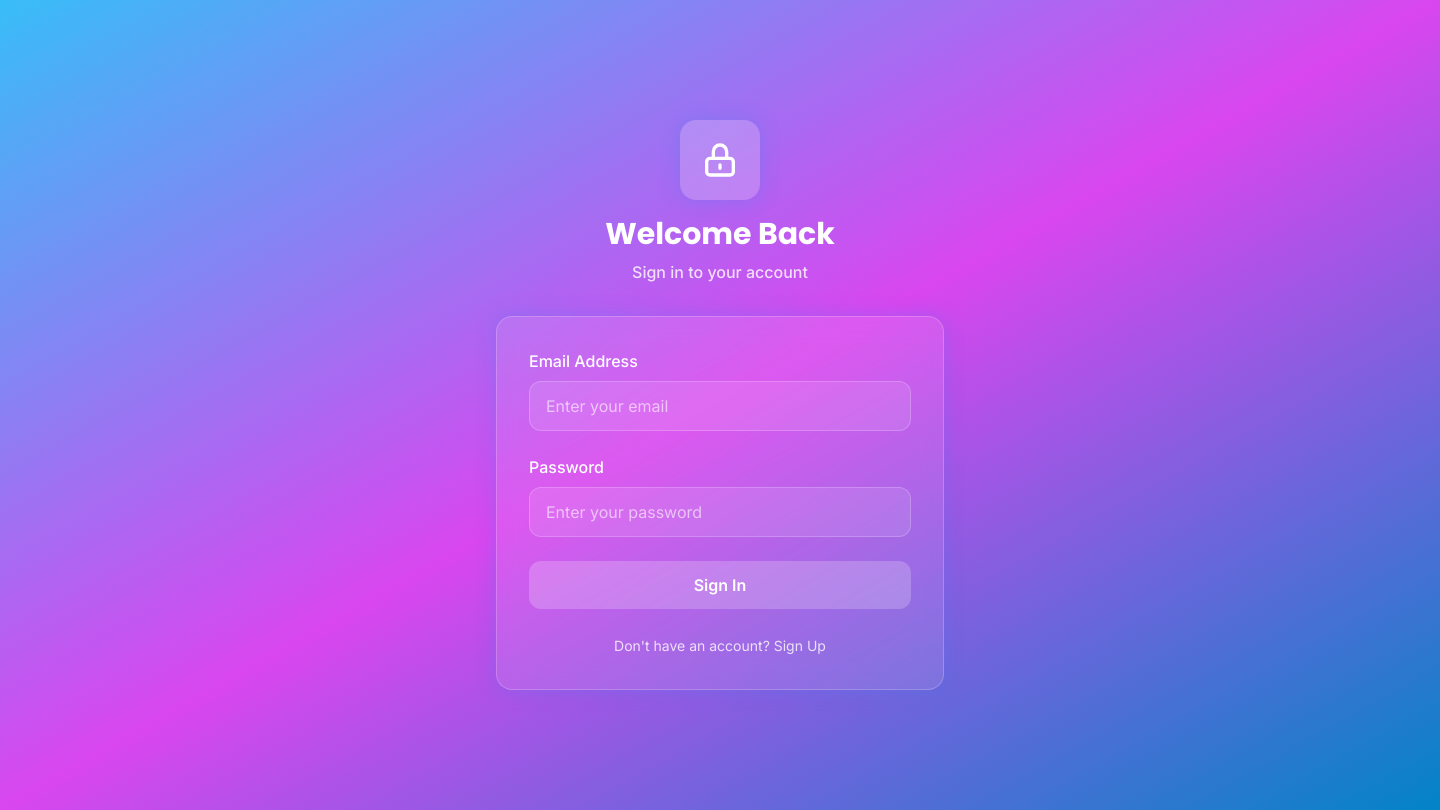
Test case: LoginPage › handles login error
Type "test@example.com" into the field labelled "Email Address" at (720, 406), box [529, 381, 911, 431]
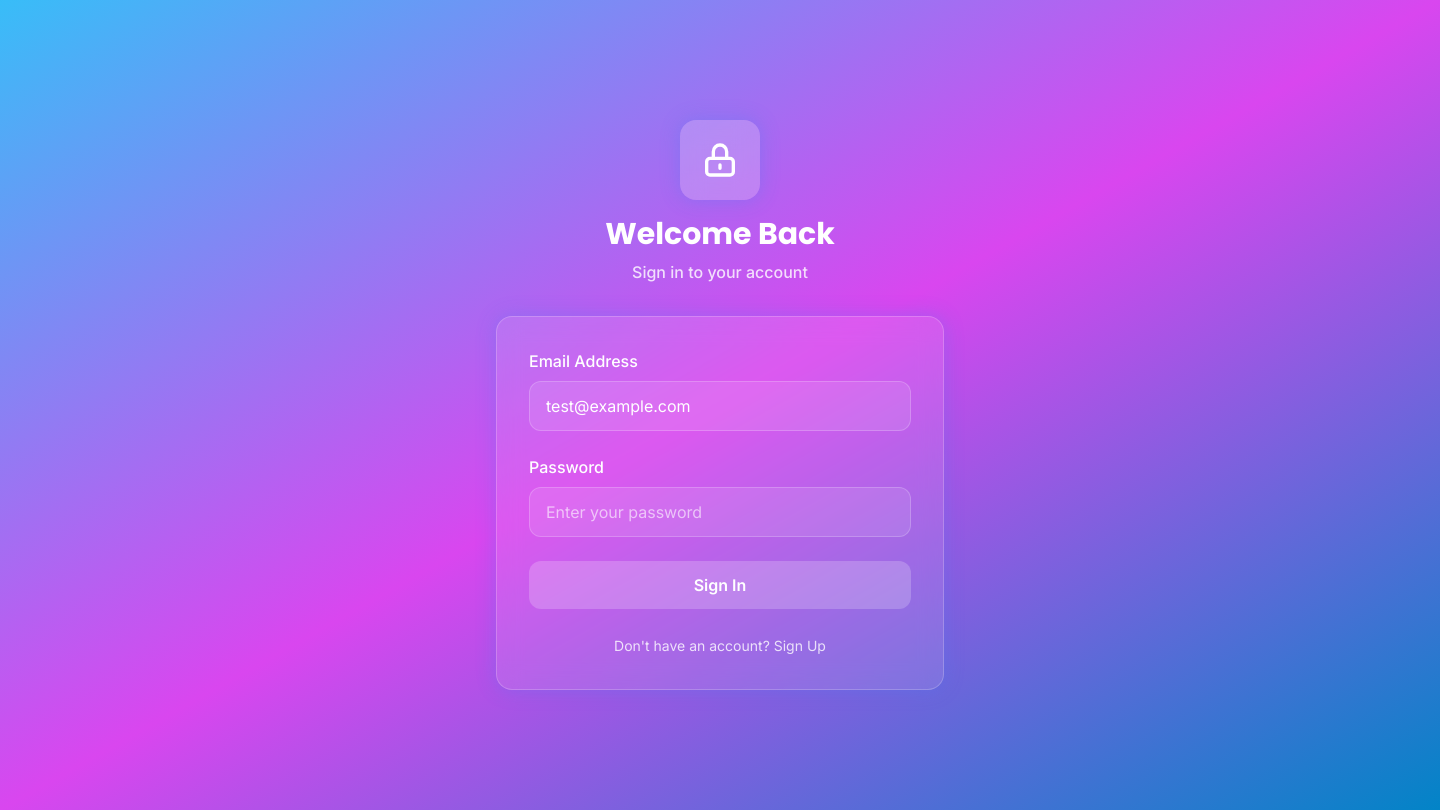
Type "wrongpassword" into the password field labelled "Password" at (720, 512), box [529, 487, 911, 537]
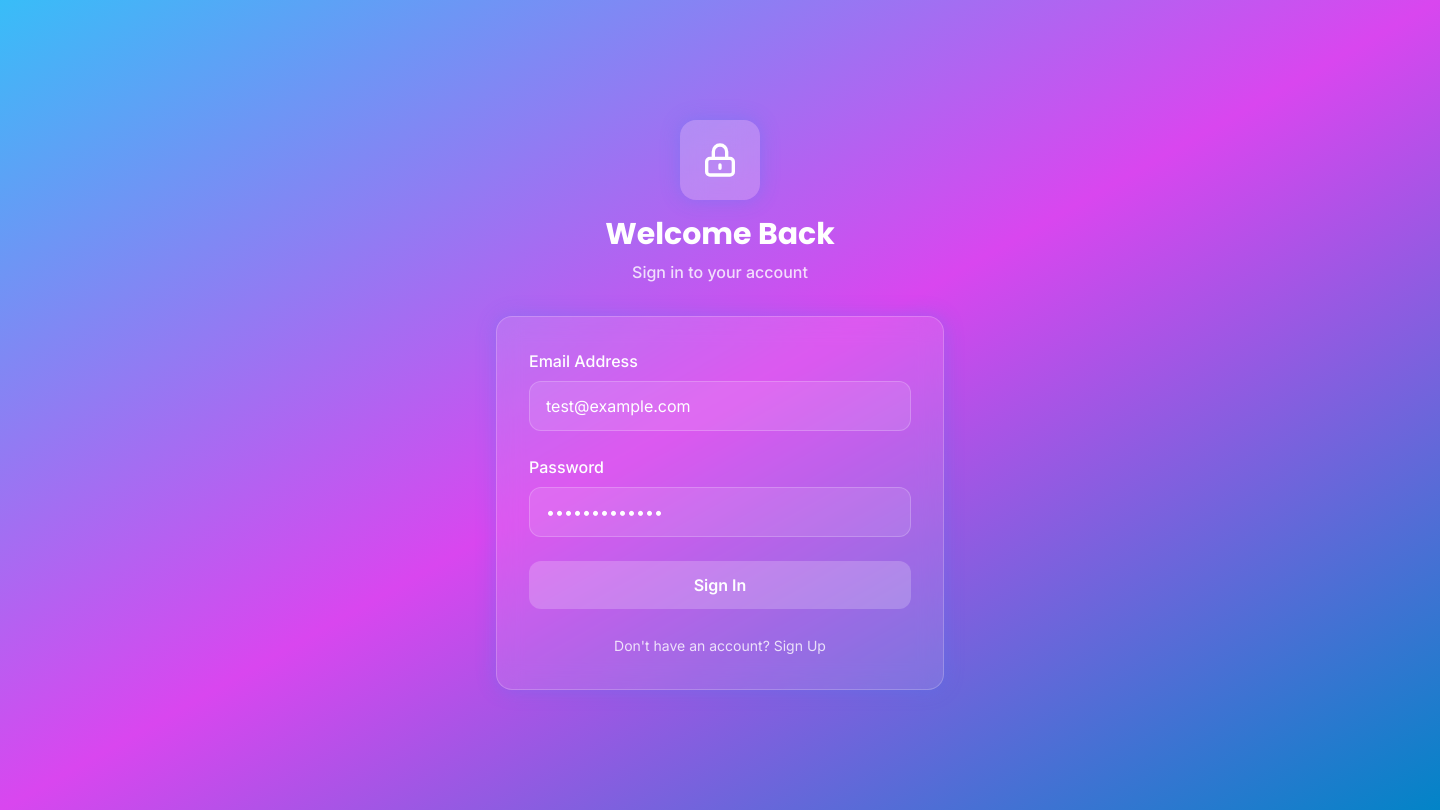
Click the button "Sign In" at (720, 585), box [529, 561, 911, 609]
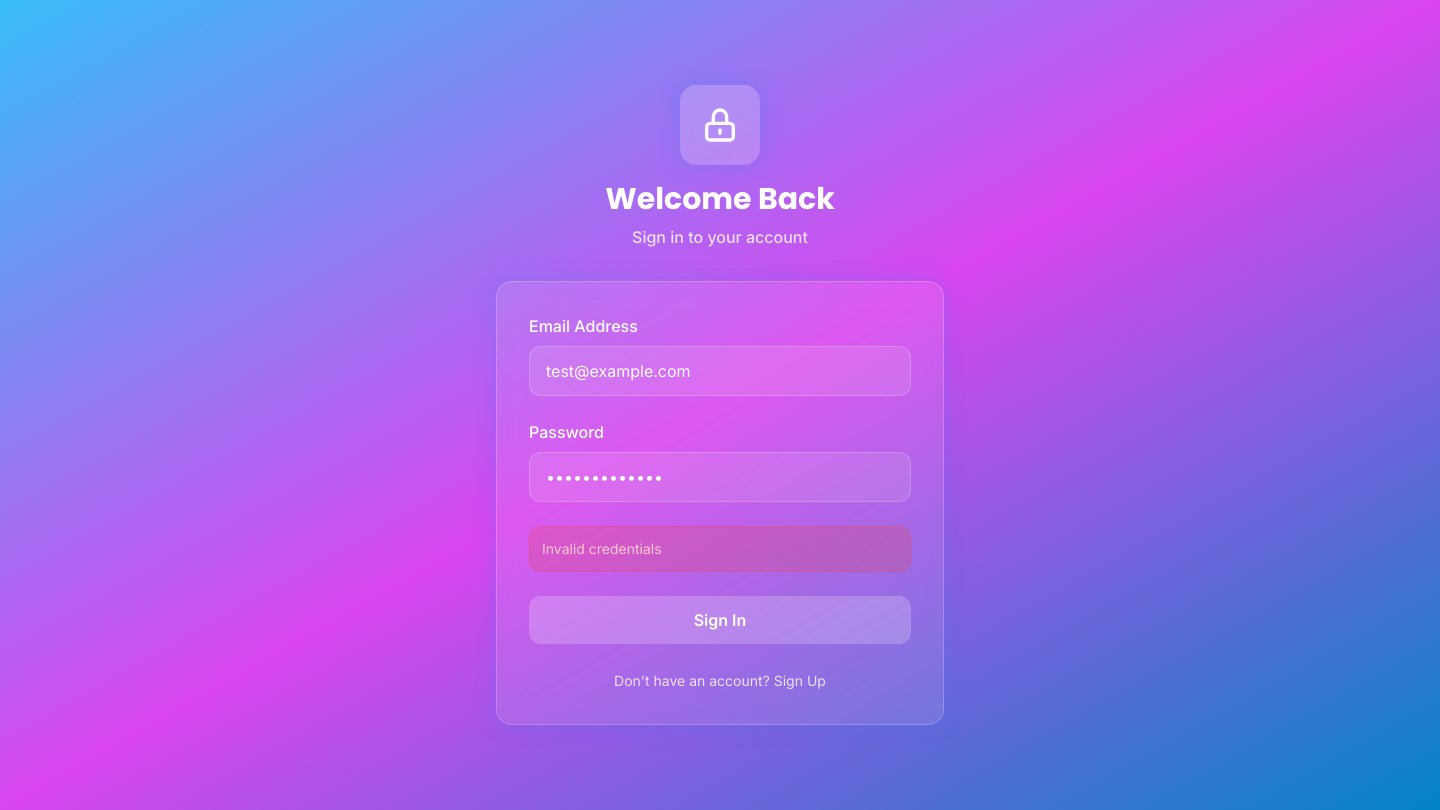
Check: the text "Invalid credentials" is shown, box [542, 540, 662, 557]
